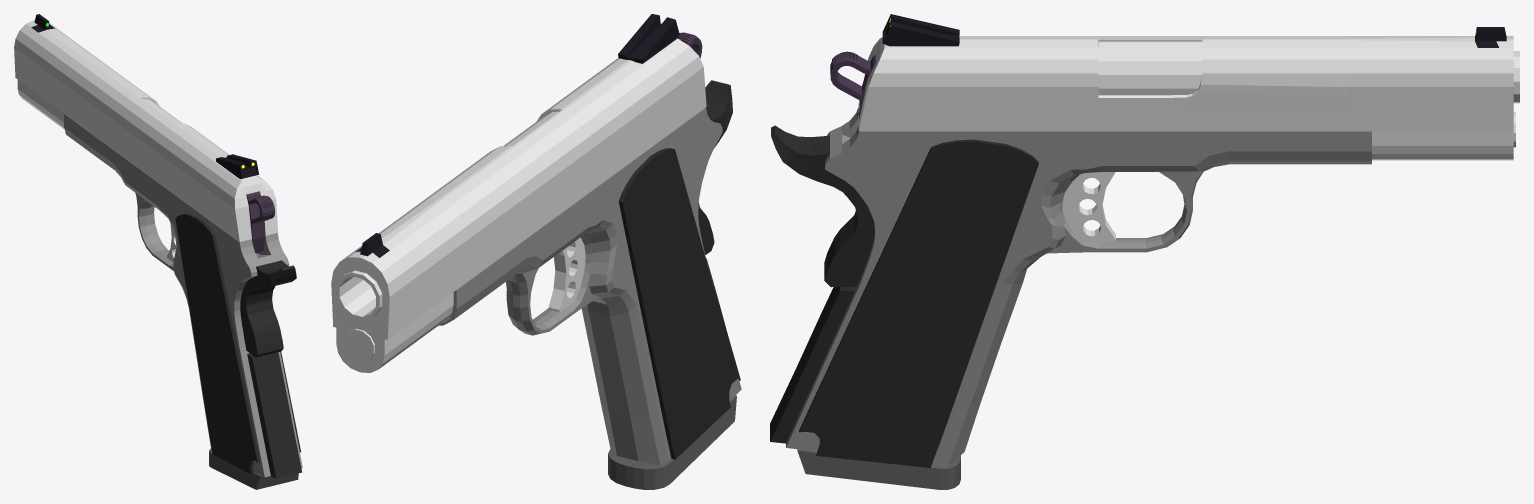
File: pistol4.fbx
3 views of the same model, side by side, from view 1: azimuth 30°, elevation 25°; view 2: azimuth 150°, elevation 25°; view 3: azimuth 270°, elevation 25° (orthographic). The views are drawn at different scales.
Parts seen in each view (by area): view 1: Slide, Handle, Handle.001, Slide.001, Hammer, Magazine.001; view 2: Slide, Handle, Handle.001, Slide.001, Barrel, Magazine, Trigger, Magazine.001; view 3: Handle.001, Handle, Slide.001, Slide, Block, Magazine, Trigger.001, Block.001, Hammer.001.
Part boxes in pixels (x1,y1,x2,y2): Slide: (14, 14, 278, 241); Handle: (64, 114, 294, 478); Handle.001: (130, 186, 302, 478); Slide.001: (14, 21, 257, 240); Hammer: (246, 191, 274, 252); Magazine.001: (210, 453, 298, 489); Slide: (331, 14, 706, 372); Handle: (439, 80, 740, 464); Handle.001: (455, 129, 741, 460); Slide.001: (370, 14, 672, 369); Barrel: (336, 270, 382, 320); Magazine: (608, 395, 736, 489); Trigger: (548, 237, 585, 312); Magazine.001: (667, 396, 736, 483); Handle.001: (770, 115, 1371, 455); Handle: (770, 107, 1371, 467); Slide.001: (858, 15, 1515, 160); Slide: (858, 14, 1515, 132); Block: (1098, 41, 1202, 88); Magazine: (797, 449, 960, 489); Trigger.001: (1062, 172, 1115, 242); Block.001: (1098, 75, 1201, 95); Hammer.001: (831, 51, 874, 116).
Bounding box in the file's own units: 41.1 × 283 × 419.
